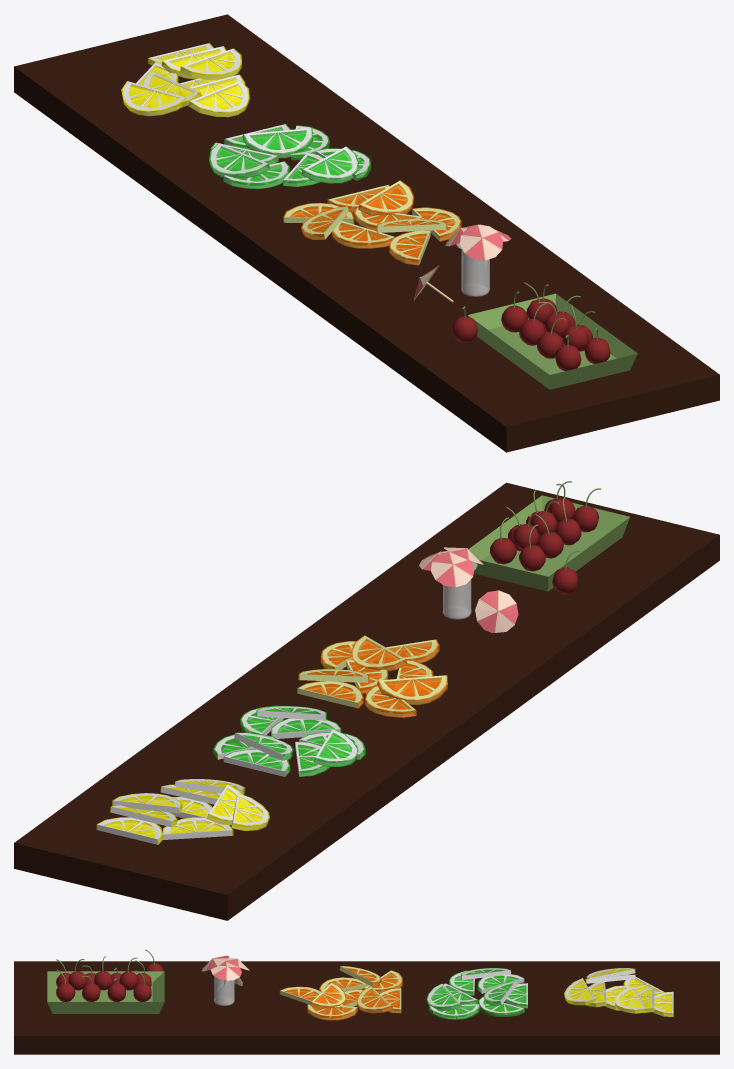
Rendered from DrinkToppingsStation.fbx.
3 views of the same model, one above another, from view 1: azimuth 30°, elevation 25°; view 2: azimuth 150°, elevation 25°; view 3: azimuth 270°, elevation 25° (orthographic). The views are drawn at different scales.
Visible parts, largest first — view 1: PlaceMat, Cherrys, Oranges, Limes, Lemons, Umbrellas; view 2: PlaceMat, Cherrys, Oranges, Lemons, Limes, Umbrellas; view 3: PlaceMat, Cherrys, Oranges, Limes, Lemons, Umbrellas.
Part boxes in pixels (bbox=[...]): PlaceMat: bbox=[14, 14, 719, 452]; Cherrys: bbox=[452, 282, 637, 389]; Oranges: bbox=[283, 180, 461, 265]; Limes: bbox=[209, 124, 370, 188]; Lemons: bbox=[121, 43, 249, 117]; Umbrellas: bbox=[414, 224, 511, 302]; PlaceMat: bbox=[14, 482, 719, 920]; Cherrys: bbox=[468, 481, 629, 594]; Oranges: bbox=[297, 635, 447, 717]; Lemons: bbox=[96, 779, 269, 844]; Limes: bbox=[213, 705, 365, 776]; Umbrellas: bbox=[419, 547, 518, 632]; PlaceMat: bbox=[14, 961, 719, 1054]; Cherrys: bbox=[47, 949, 164, 1013]; Oranges: bbox=[279, 966, 402, 1020]; Limes: bbox=[426, 968, 527, 1019]; Lemons: bbox=[564, 968, 673, 1017]; Umbrellas: bbox=[201, 955, 249, 1005].
Bounding box in the file's own units: 46.24 × 18.42 × 185.
